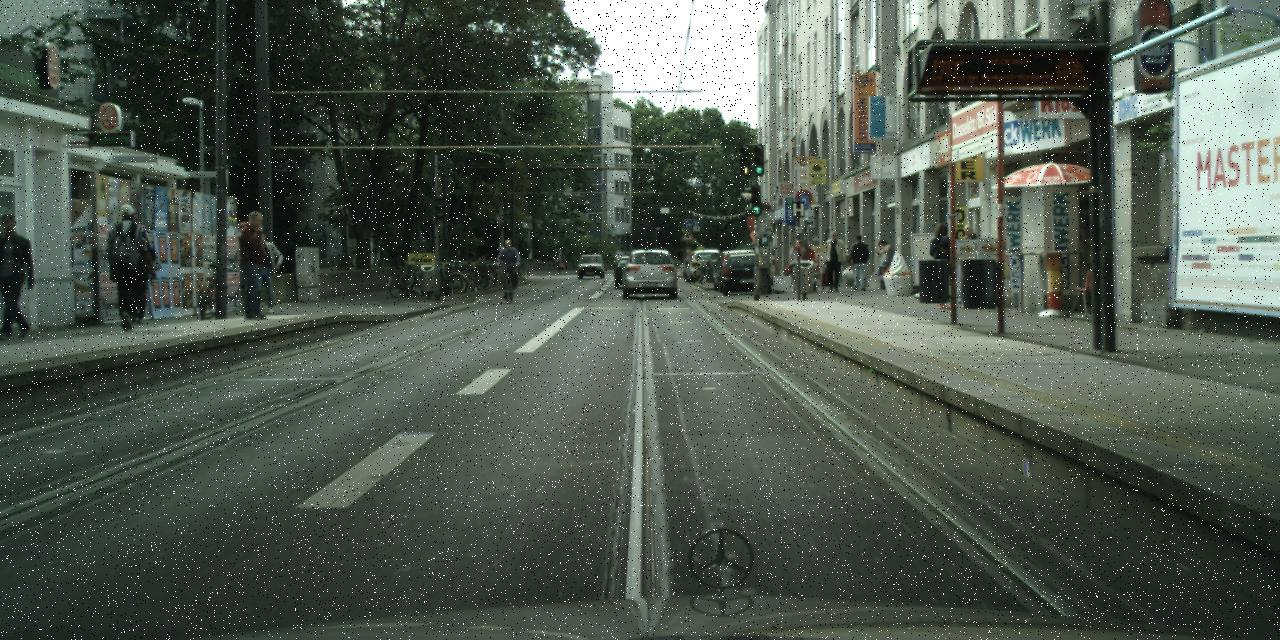ped: (101, 203, 152, 327), (232, 211, 276, 318), (0, 212, 36, 336), (924, 222, 958, 308), (245, 228, 278, 310), (954, 223, 984, 301), (822, 231, 846, 290), (848, 232, 870, 290), (498, 238, 520, 293), (874, 239, 894, 286), (789, 240, 807, 284), (799, 242, 817, 286), (684, 248, 694, 274), (554, 247, 564, 271)
